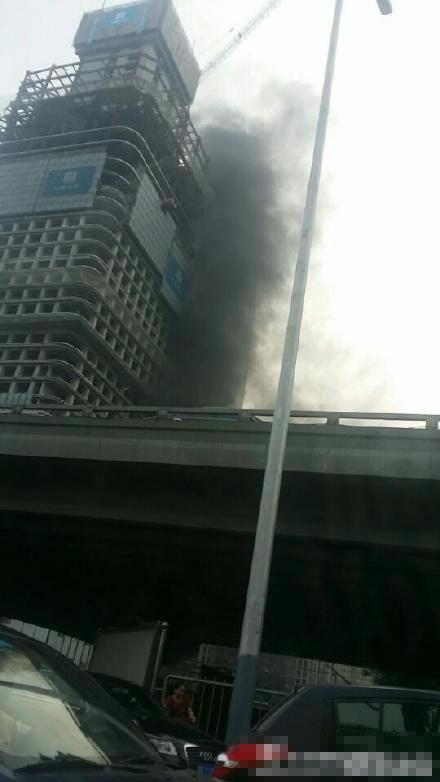smoke: (175, 119, 324, 402)
